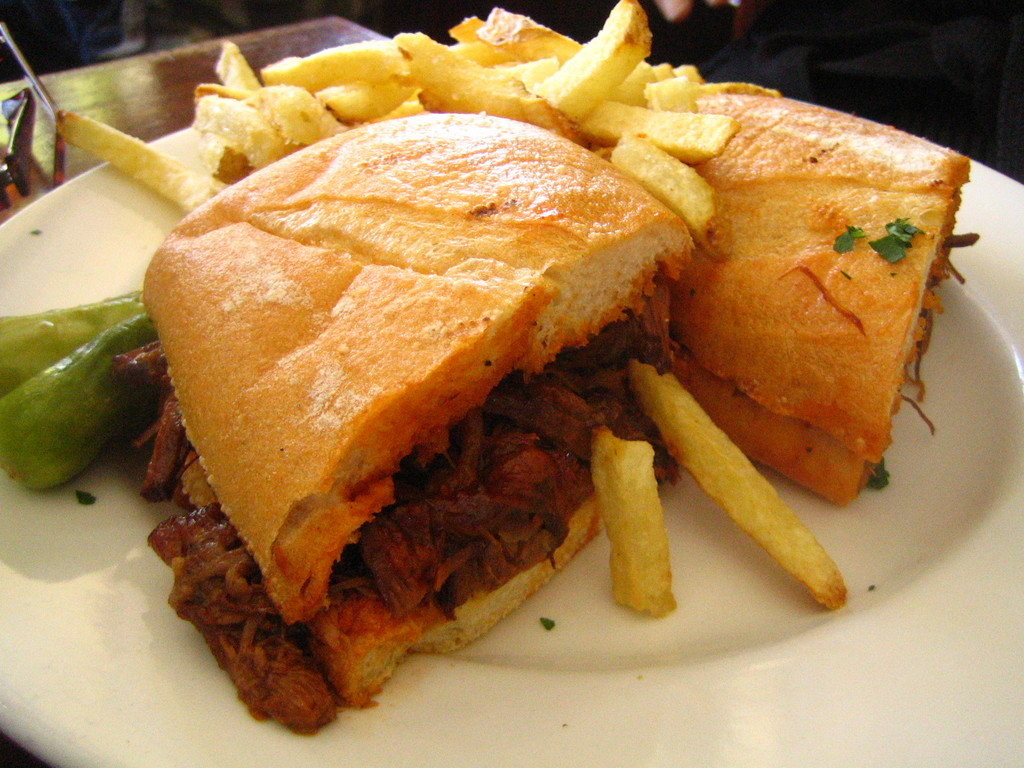French fries: (617, 349, 848, 614), (479, 7, 671, 105), (58, 112, 213, 227), (403, 35, 574, 139), (589, 419, 668, 622), (539, 0, 656, 115), (613, 122, 723, 238), (557, 102, 732, 160), (201, 78, 339, 149), (259, 36, 404, 99), (190, 92, 300, 175), (321, 76, 426, 129), (644, 78, 787, 105), (213, 36, 262, 93), (453, 37, 512, 68), (450, 12, 490, 39)
